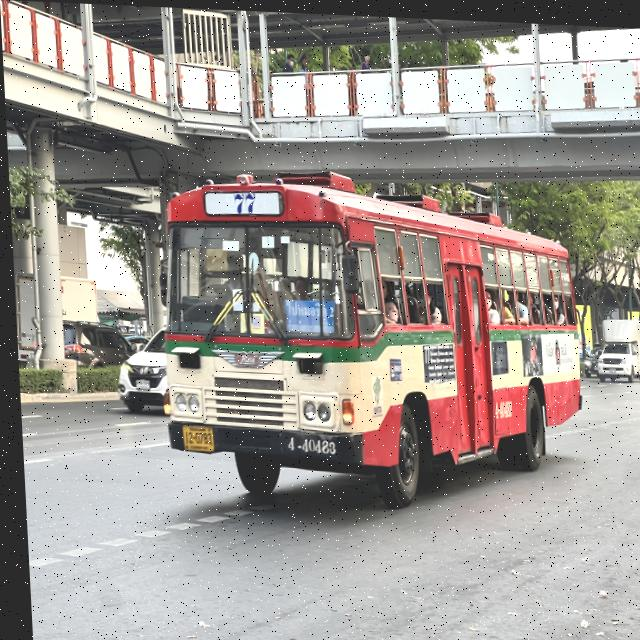BMTA-bus: (137, 147, 591, 526)
Bus Line Number: (200, 185, 282, 212)
Bus Side Number: (281, 431, 336, 454)
Destination Sign: (283, 294, 335, 335)
